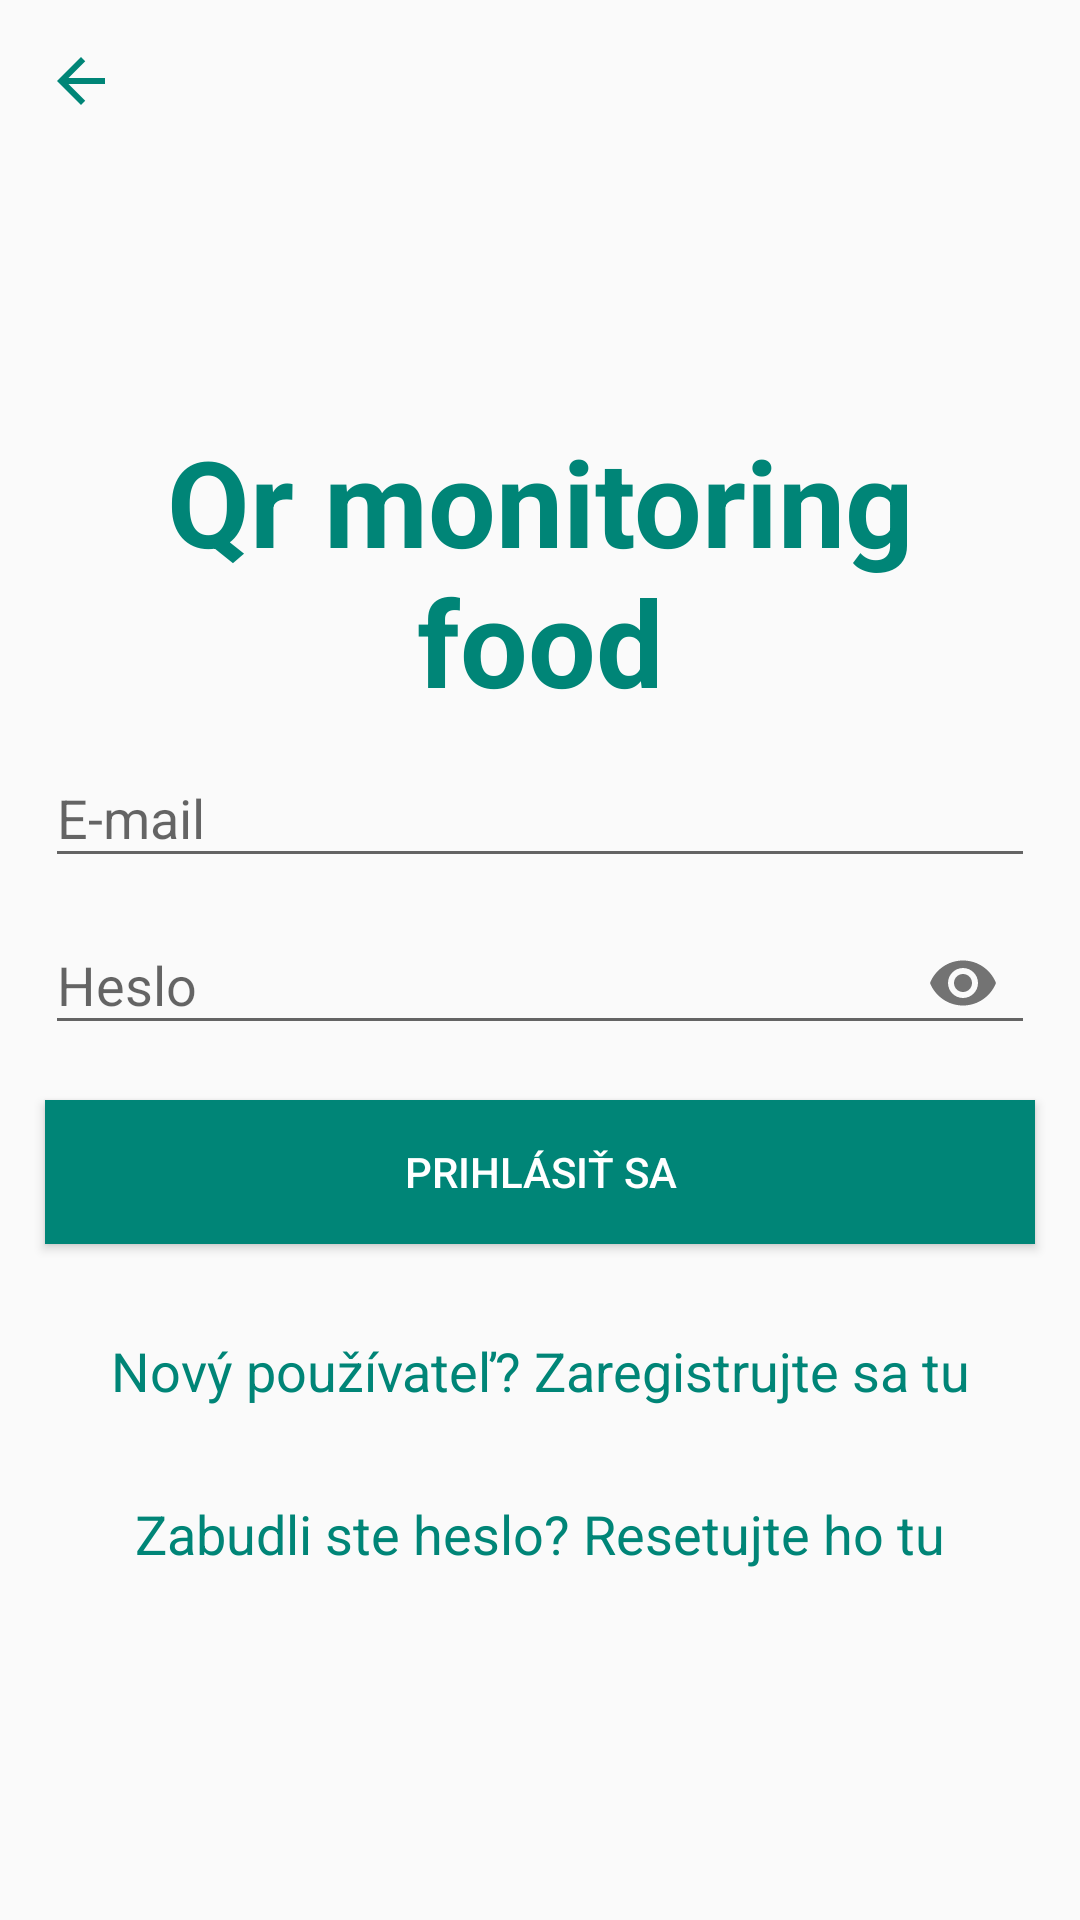

Point at icon controls on the screen. Image size 1080x1920, points as (x,y).
Späť: (81,81)
